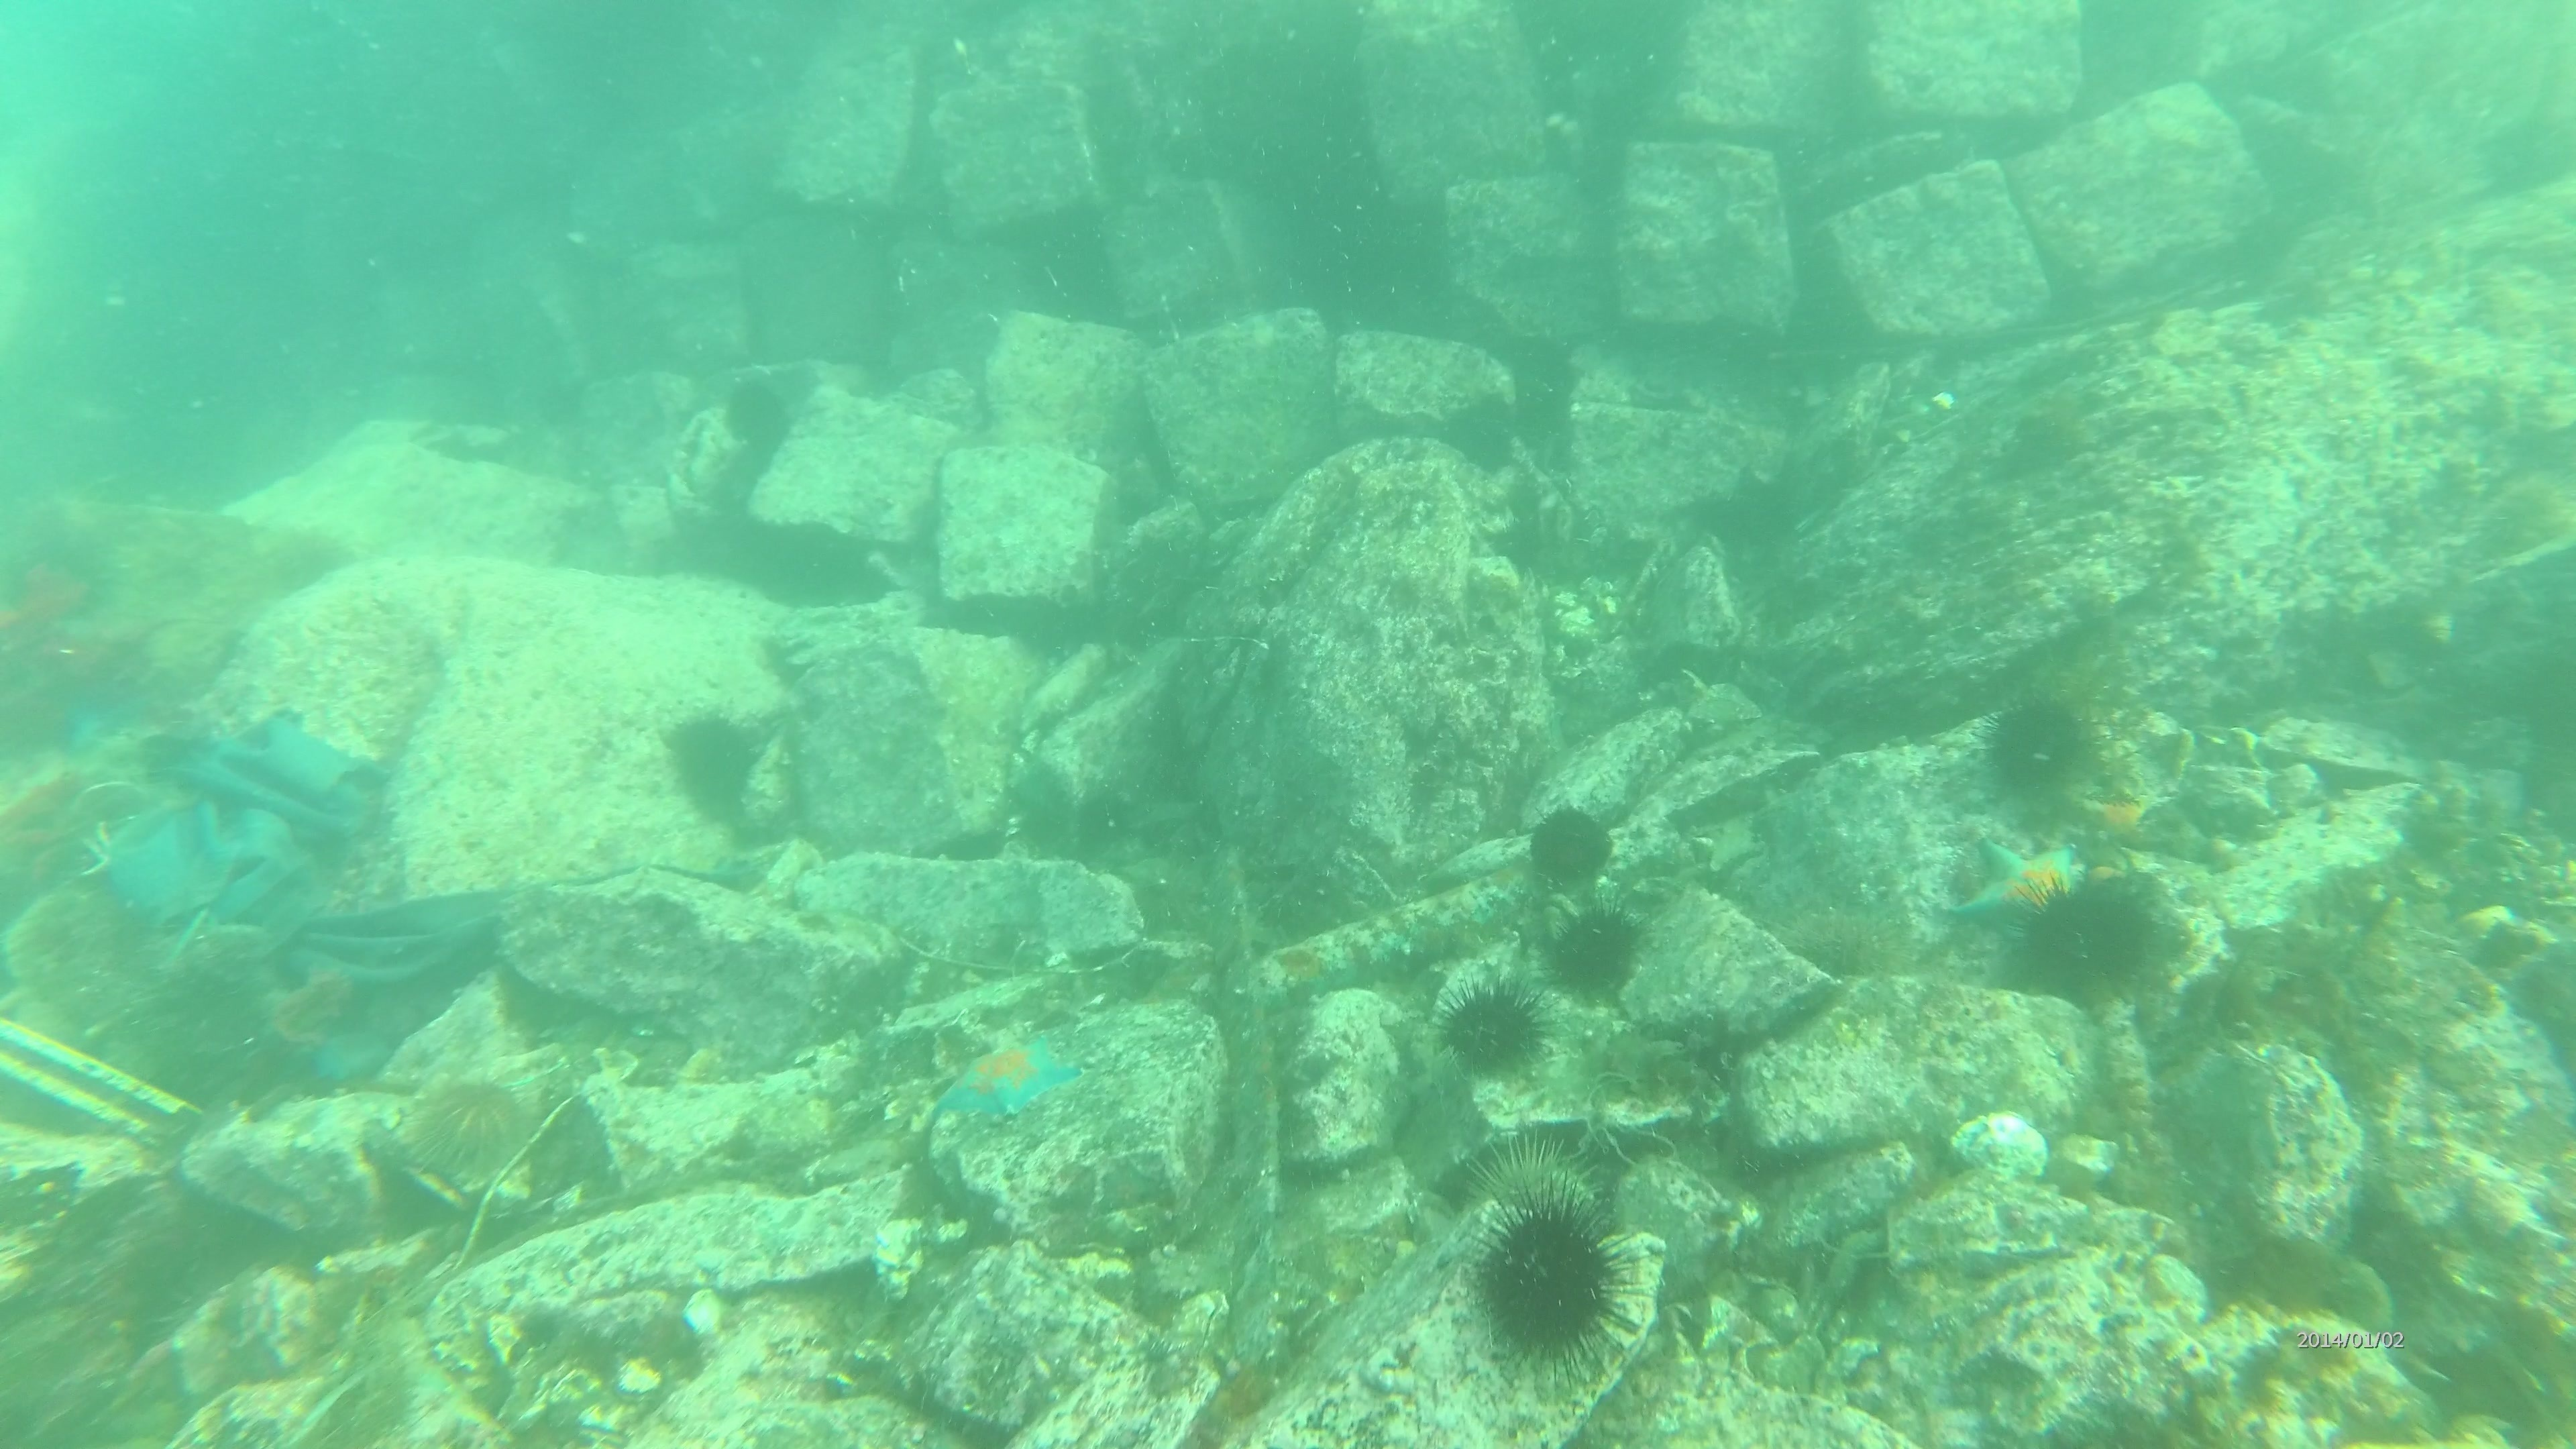echinus: (1461, 1187, 1638, 1371), (2012, 872, 2166, 1007), (400, 1065, 540, 1184), (1447, 1131, 1603, 1231), (1976, 688, 2100, 801), (658, 704, 771, 821), (1433, 975, 1552, 1083), (1541, 899, 1649, 1003), (1520, 796, 1621, 893), (717, 366, 803, 462)
starfish: (927, 1024, 1085, 1131), (1950, 830, 2091, 945), (2079, 780, 2158, 853)
